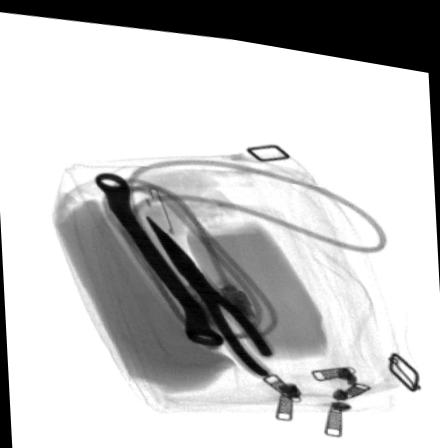Pliers: (147, 209, 273, 370)
Wrench: (92, 169, 221, 338)
